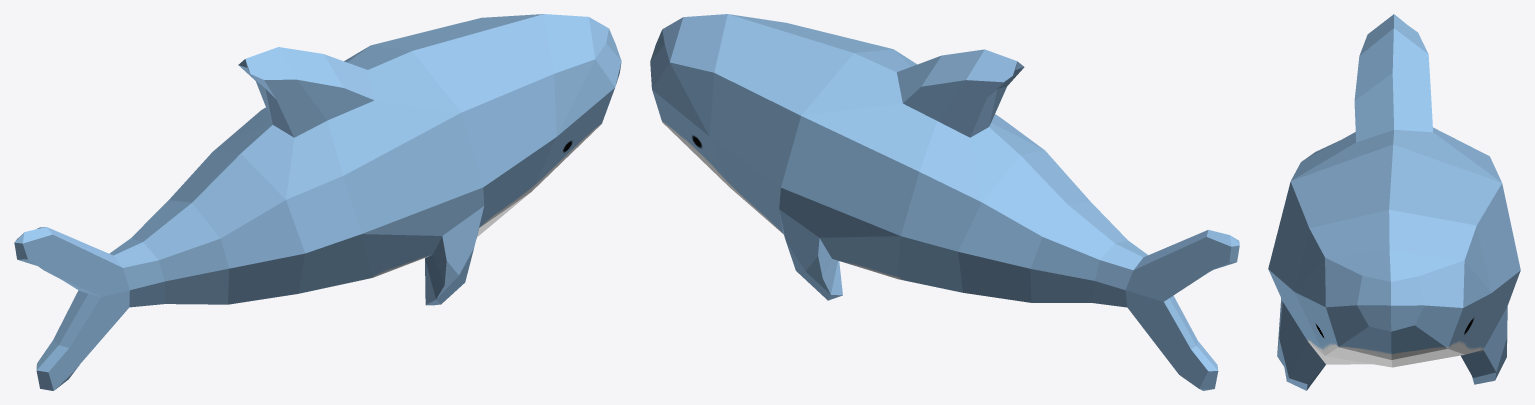
The model's file is shark.glb.
3 renders of one model, left to right at view 1: azimuth 30°, elevation 25°; view 2: azimuth 150°, elevation 25°; view 3: azimuth 270°, elevation 25°, orthographic. The views are drawn at different scales.
Parts seen in each view (by area): view 1: Cube; view 2: Cube; view 3: Cube.
Part boxes in pixels (box(x1,y1,x2,y2)): Cube: box(14, 14, 621, 390); Cube: box(650, 14, 1239, 390); Cube: box(1268, 14, 1520, 390).
Size of the model in its own units: 6.06 by 2.82 by 1.93.
1 material, 1 textured.
